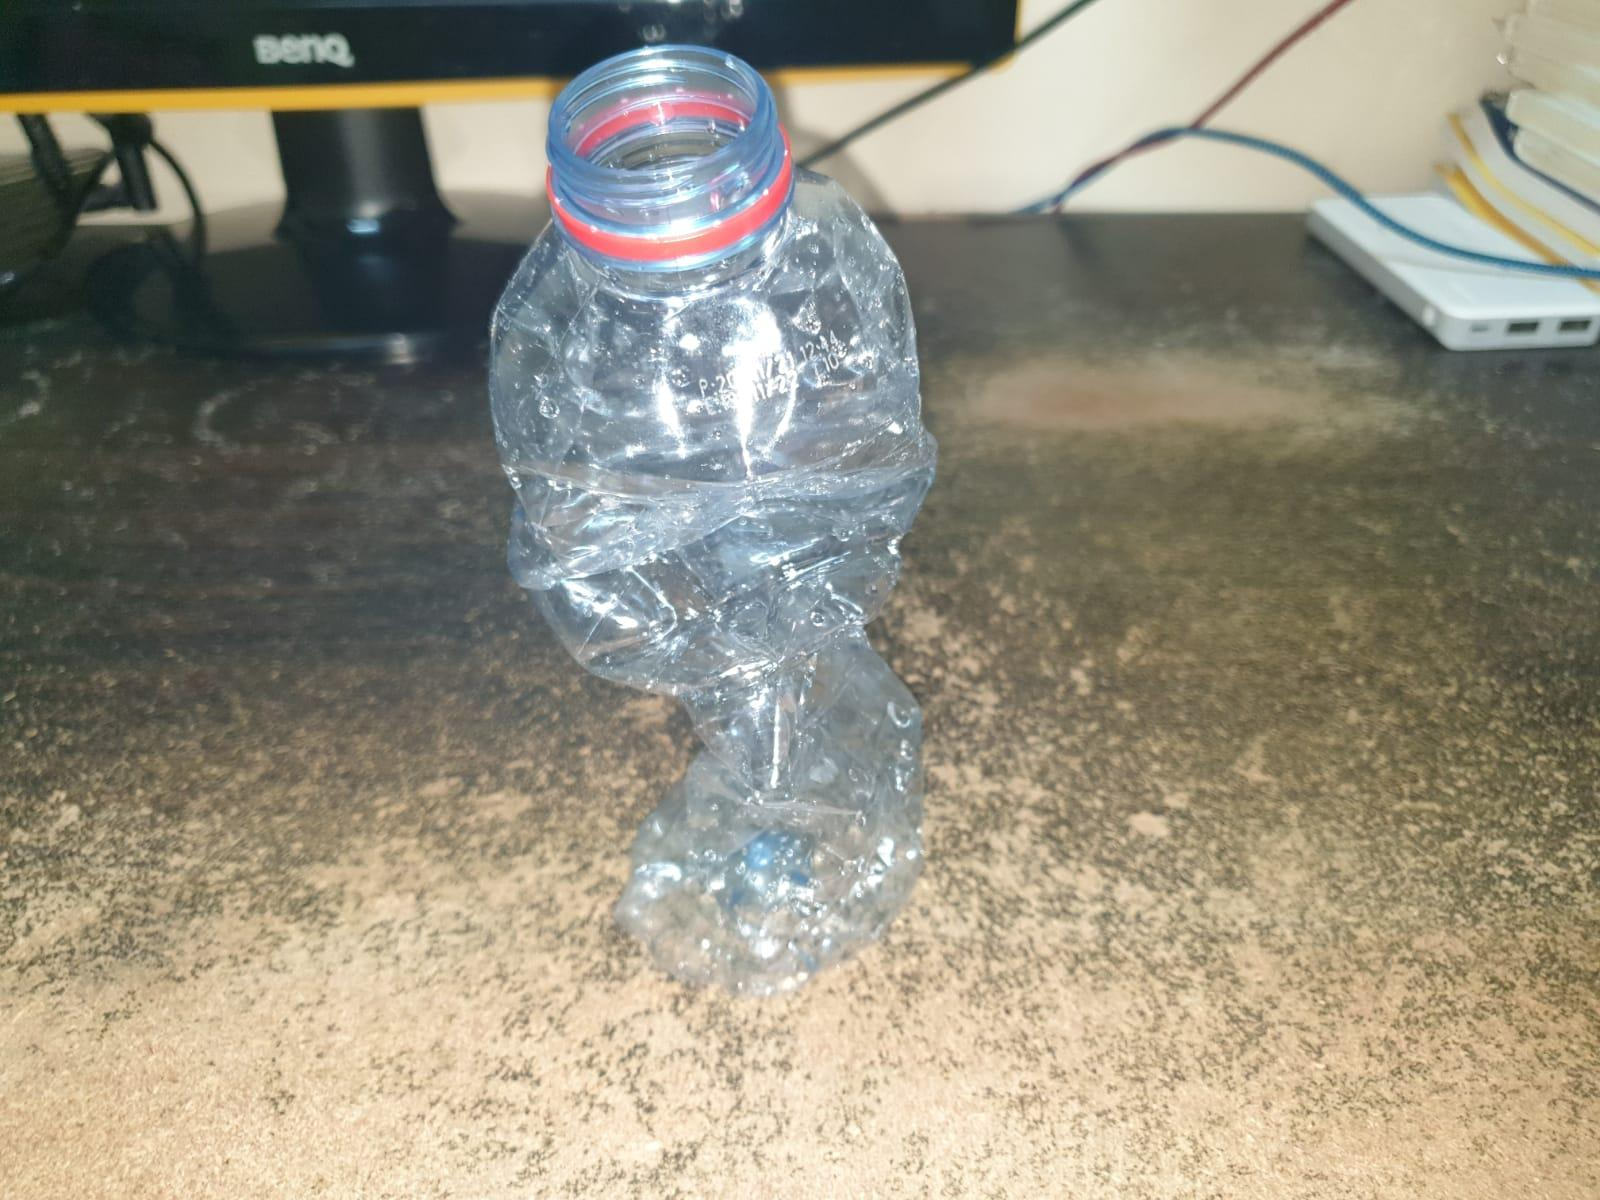bottle: (485, 30, 941, 993)
